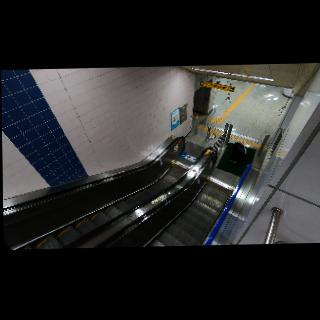anomaly: (226, 140, 249, 168)
